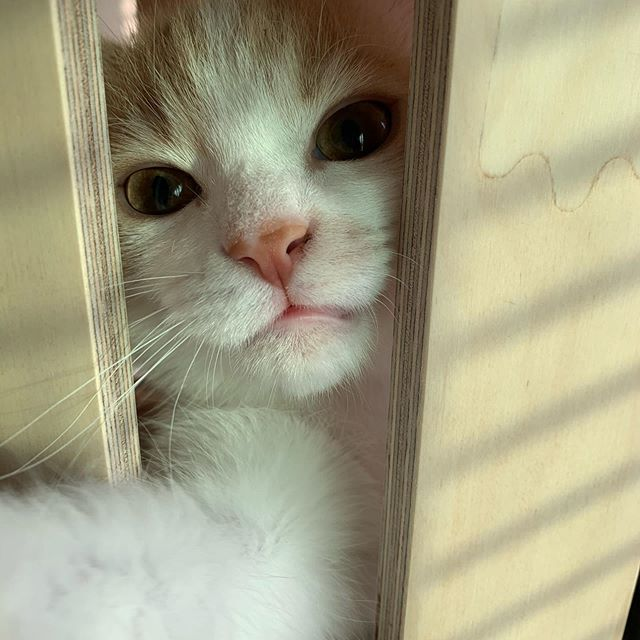cat: (102, 1, 497, 413)
